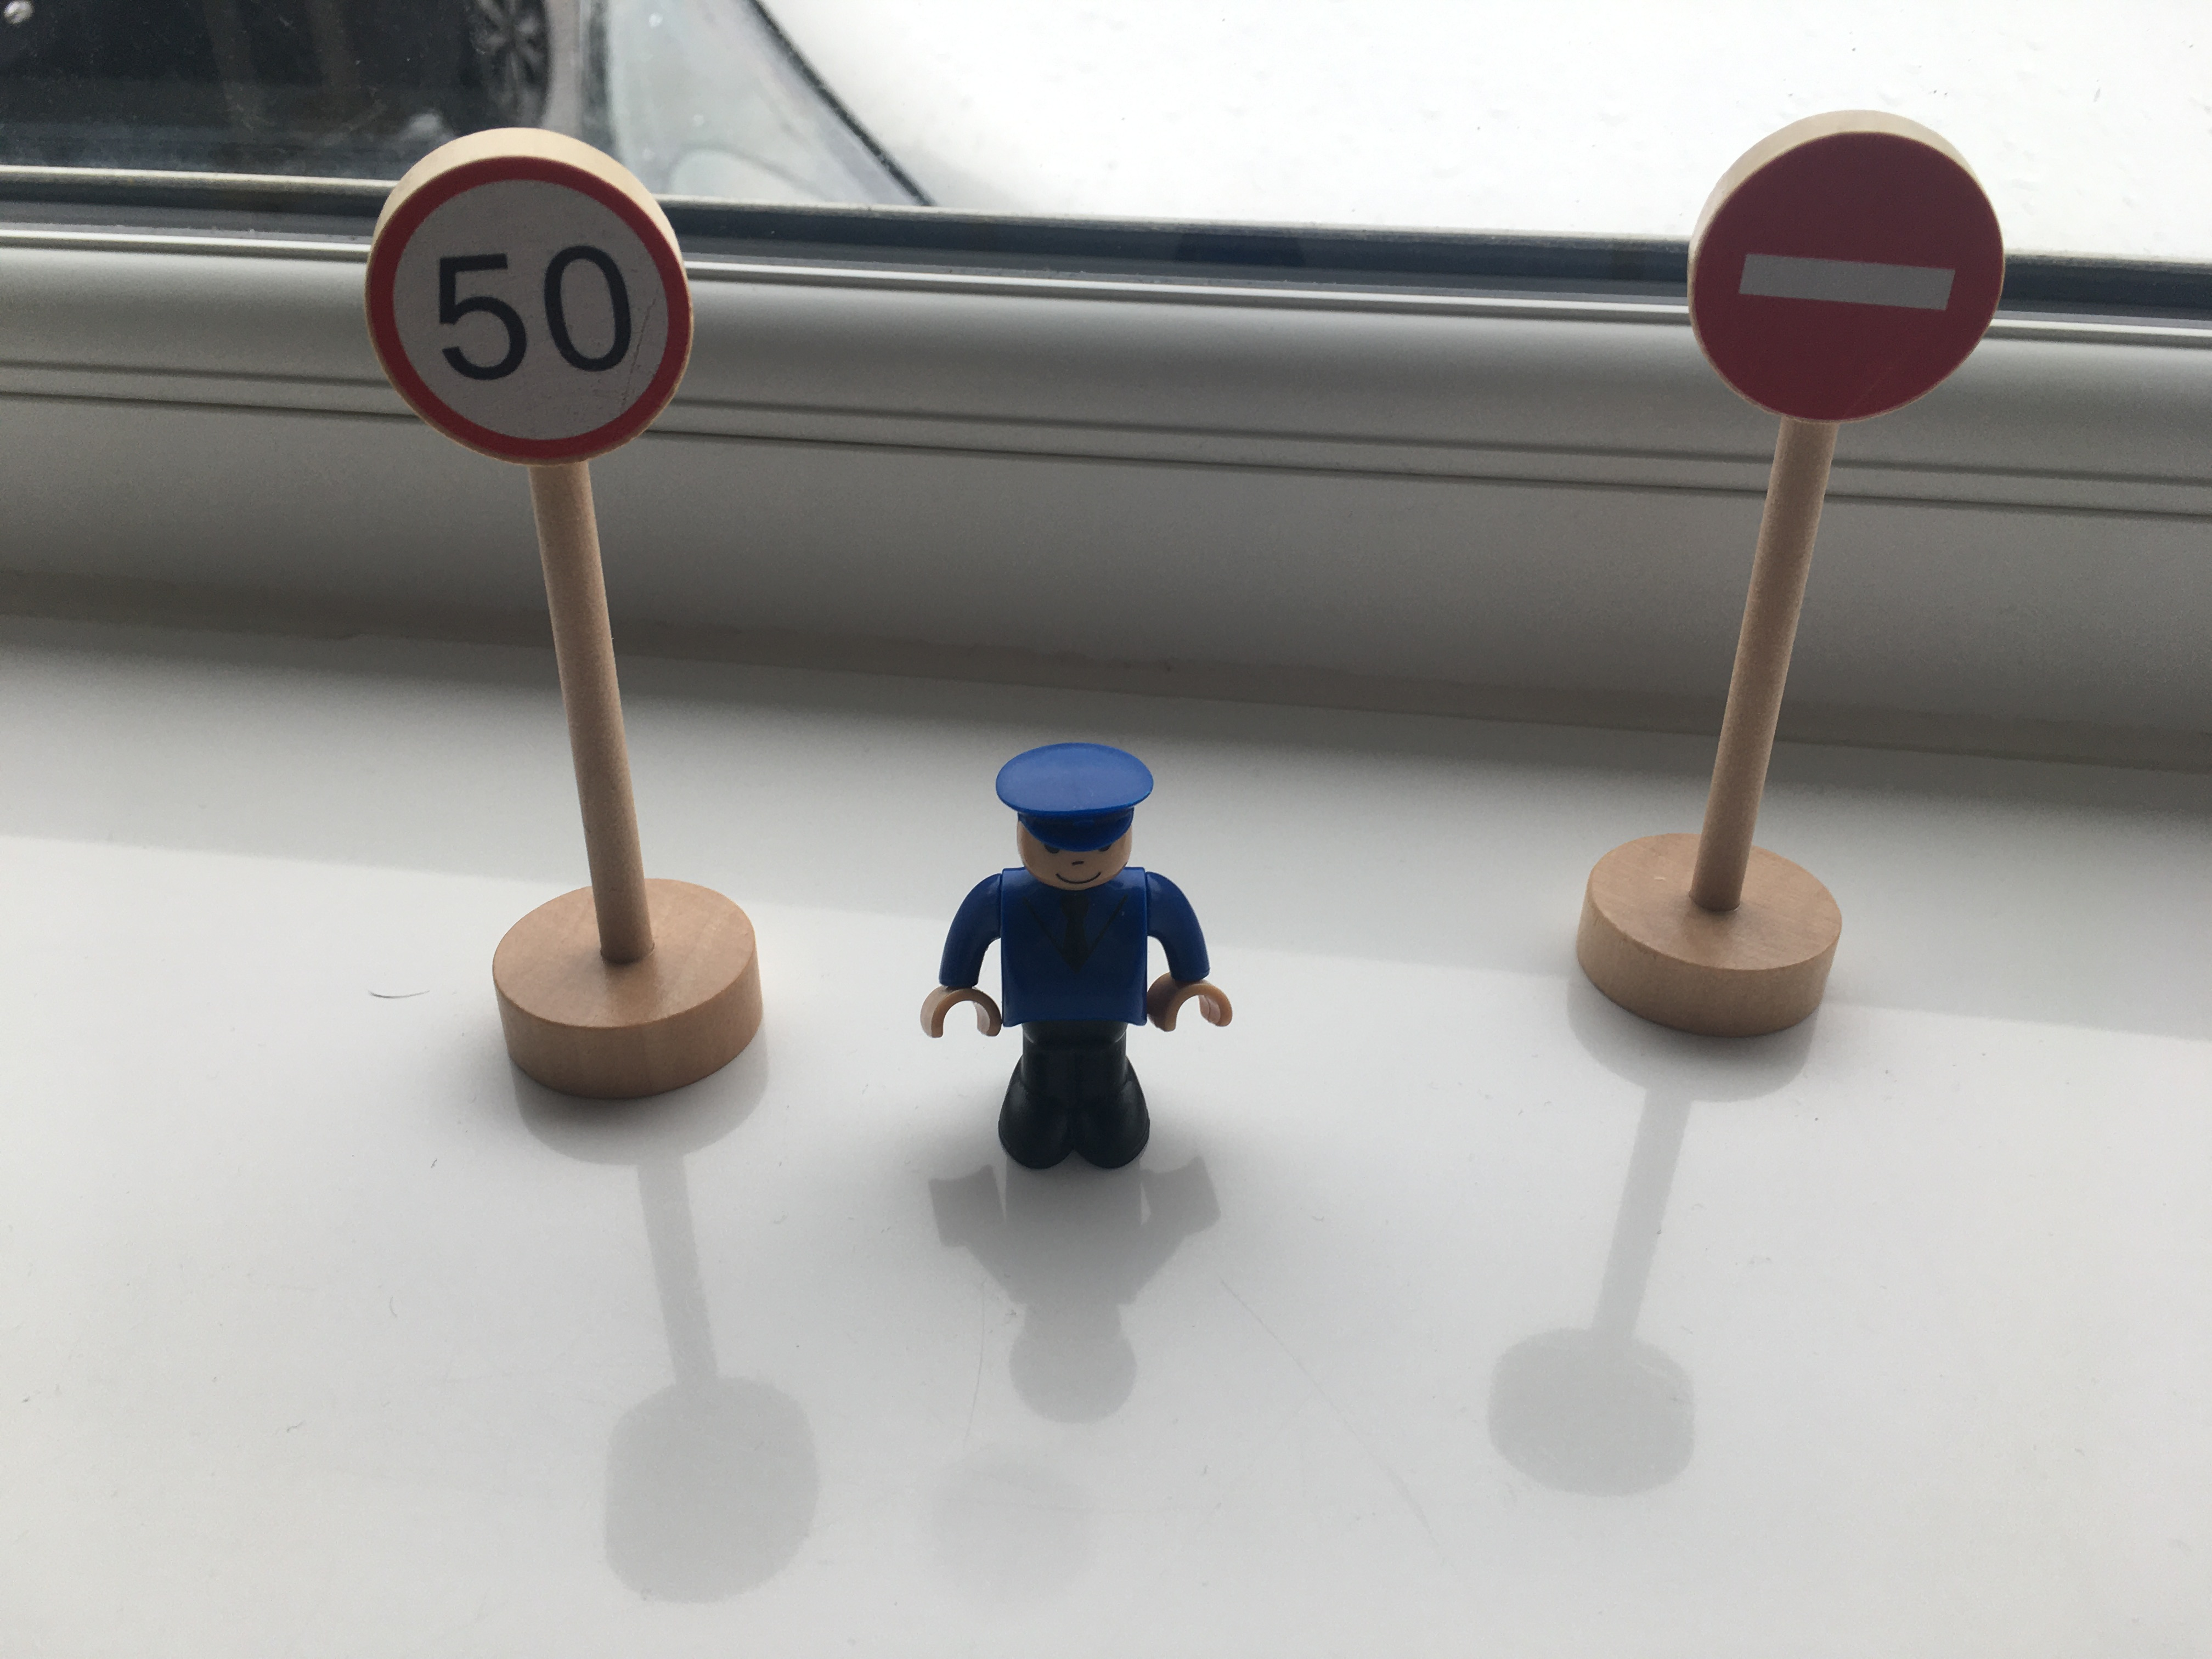Traffic_Sign_50: (357, 139, 715, 454)
Traffic_Sign_No_Entry: (1660, 109, 2022, 427)
person: (909, 725, 1259, 1206)
